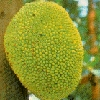jackfruit: (3, 1, 84, 99)
